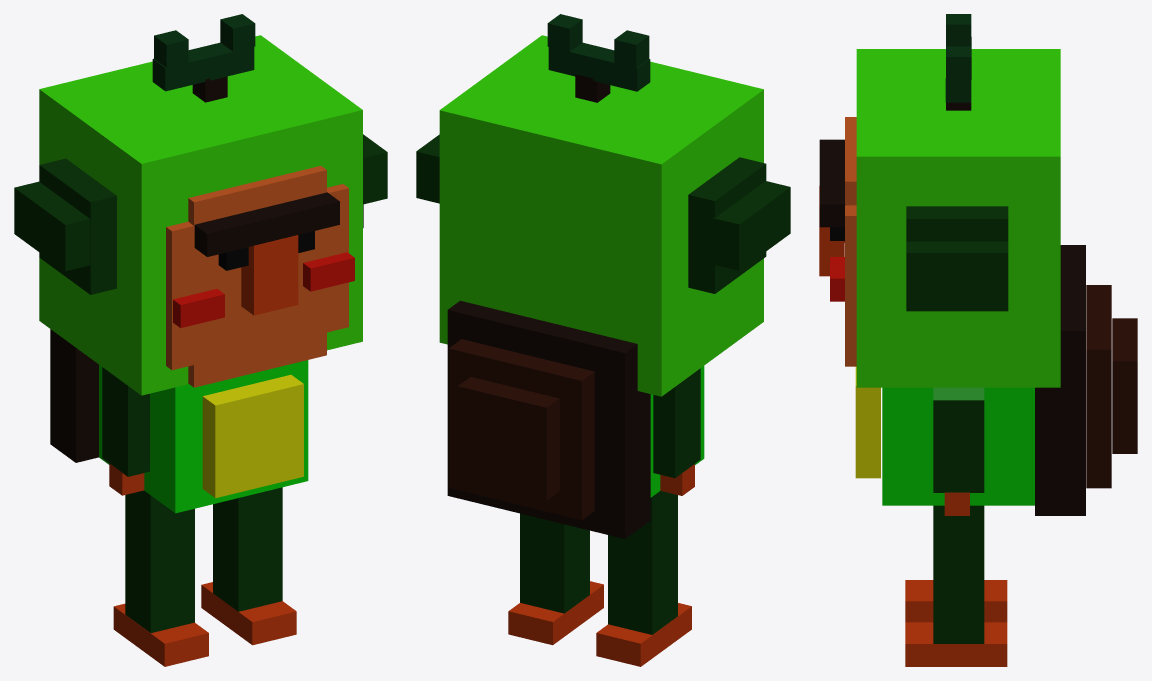
Rendered from character.fbx.
3 views of the same model, side by side, from view 1: azimuth 30°, elevation 25°; view 2: azimuth 150°, elevation 25°; view 3: azimuth 270°, elevation 25° (orthographic).
Parts seen in each view (by area): view 1: character (13), character (5), character (28), character (17), character (21), character (19), character (2), character (11), character (29), character (6), character (10), character (16) (+12 smaller); view 2: character (13), character (11), character (23), character (12), character (21), character (19), character (29), character (10), character (16), character, character (24), character (22) (+6 smaller); view 3: character (13), character (17), character (11), character (19), character (9), character (23), character (15), character (33), character (12), character (22), character (28), character (6) (+10 smaller).
Part boxes in pixels (x1,y1,x2,y2): character (13): (39, 35, 362, 395); character (5): (188, 166, 326, 387); character (28): (202, 374, 303, 498); character (17): (99, 360, 308, 513); character (21): (125, 490, 194, 632); character (19): (213, 487, 282, 611); character (2): (166, 184, 348, 370); character (11): (50, 329, 98, 462); character (29): (39, 158, 116, 294); character (6): (194, 192, 339, 256); character (10): (14, 181, 90, 271); character (16): (102, 367, 149, 476); character (13): (439, 35, 763, 396); character (11): (447, 300, 650, 538); character (23): (448, 339, 594, 520); character (12): (458, 377, 559, 500); character (21): (608, 491, 677, 634); character (19): (520, 513, 589, 613); character (29): (688, 157, 766, 293); character (10): (713, 181, 790, 270); character (16): (653, 368, 700, 478); character: (548, 42, 650, 91); character (24): (596, 603, 691, 666); character (22): (508, 581, 603, 645); character (13): (856, 49, 1060, 387); character (17): (882, 387, 1034, 505); character (11): (1035, 245, 1085, 515); character (19): (933, 505, 984, 643); character (9): (906, 241, 1008, 299); character (23): (1086, 285, 1111, 488); character (15): (906, 206, 1008, 311); character (33): (933, 400, 984, 492); character (12): (1112, 318, 1137, 453); character (22): (905, 622, 1007, 666); character (28): (855, 366, 880, 478); character (6): (819, 139, 845, 227).
Size of the model in its own units: 72.8 by 130 by 62.45.
